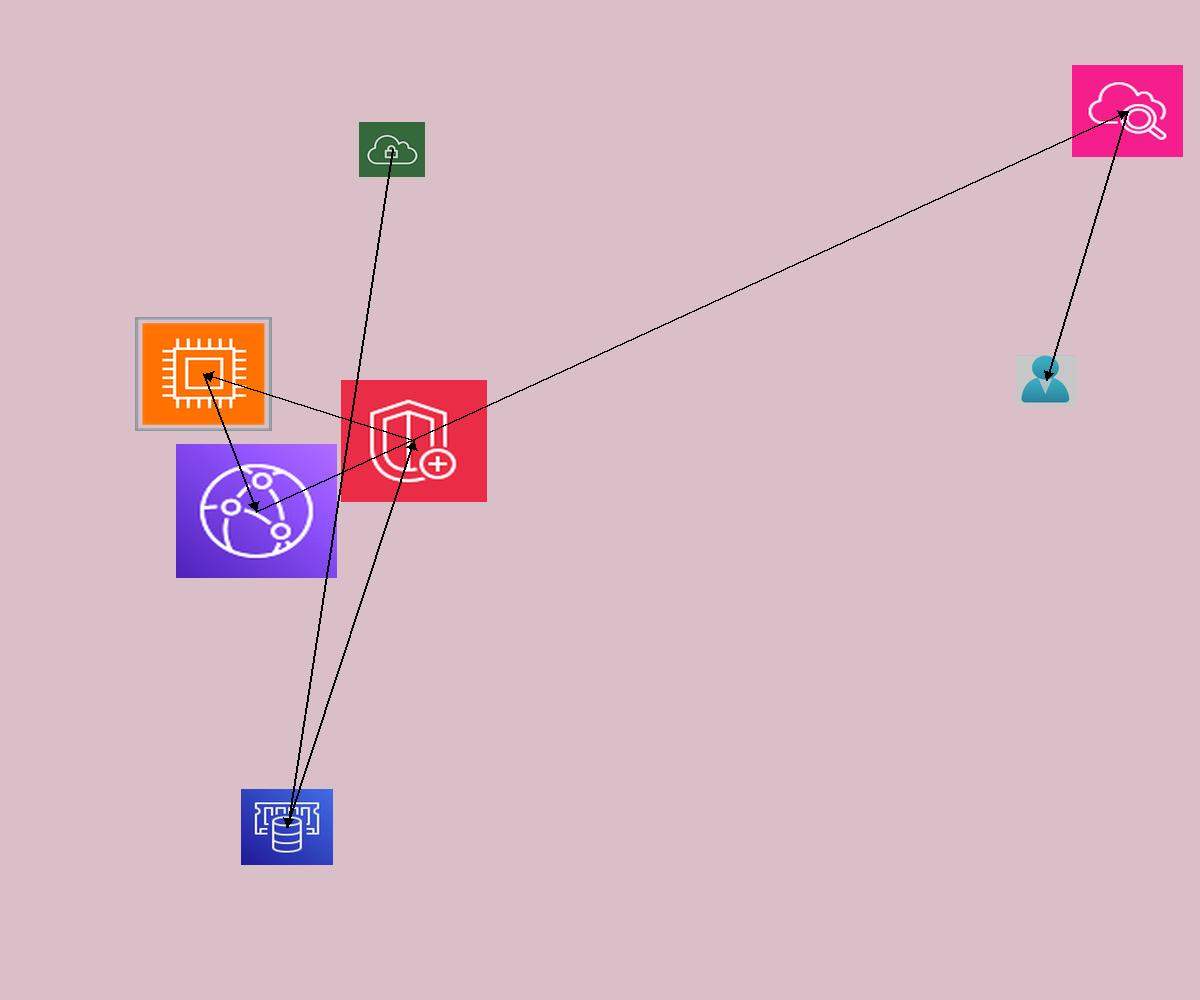AWS-Category_Compute: (135, 317, 272, 431)
AWS-CloudFront: (176, 444, 337, 578)
AWS-CloudWatch: (1072, 65, 1183, 157)
AWS-ElastiCache: (241, 789, 333, 865)
AWS-Private_vpc: (359, 122, 425, 177)
AWS-Shield: (341, 380, 487, 502)
Azure_users: (1016, 355, 1077, 406)
